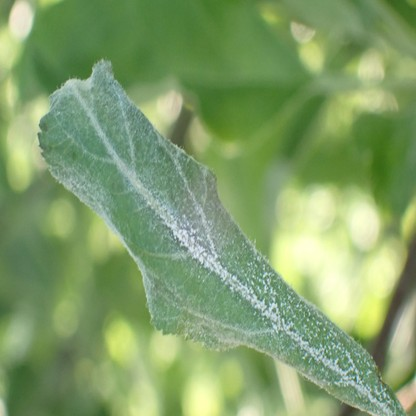powder: (37, 58, 405, 416)
